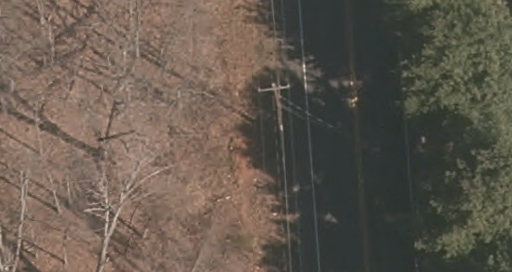DT: (251, 76, 295, 127)
